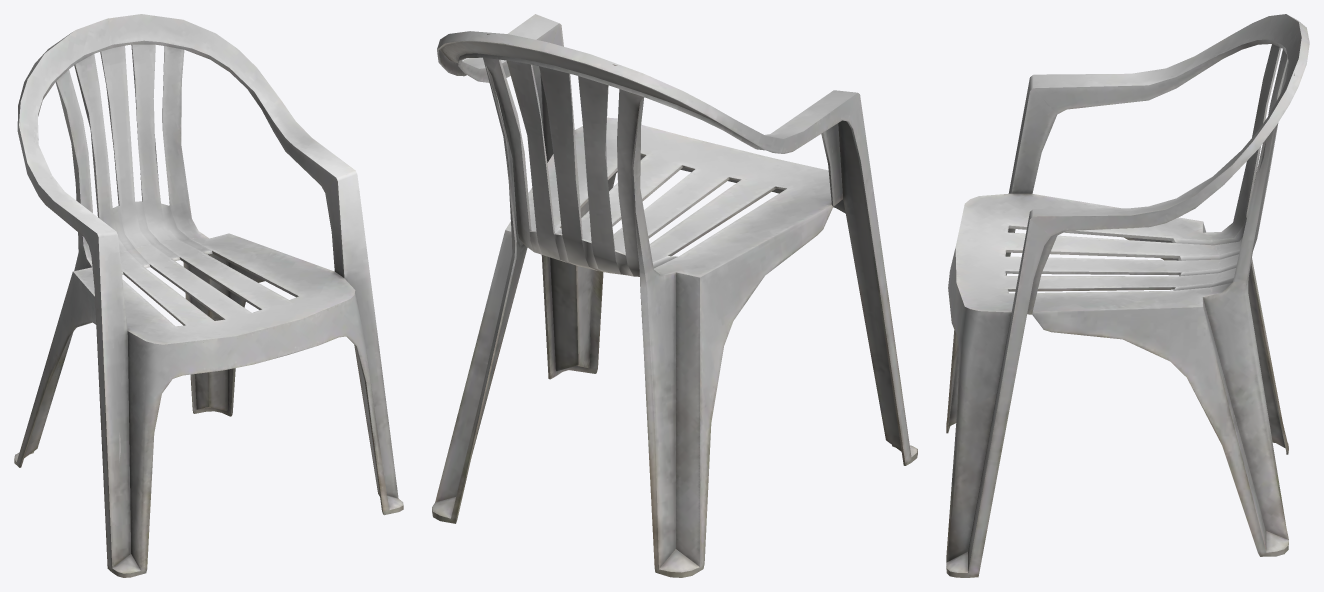
File: plastic-chair.glb
3 renders of one model, left to right at view 1: azimuth 30°, elevation 25°; view 2: azimuth 150°, elevation 25°; view 3: azimuth 270°, elevation 25°, orthographic. The views are drawn at different scales.
Visible parts, largest first — view 1: plastic_monobloc_chair_01; view 2: plastic_monobloc_chair_01; view 3: plastic_monobloc_chair_01.
Part boxes in pixels (x1,y1,x2,y2): plastic_monobloc_chair_01: [14, 14, 403, 577]; plastic_monobloc_chair_01: [432, 14, 917, 577]; plastic_monobloc_chair_01: [946, 14, 1309, 577].
Size of the model in its own units: 0.6419 by 0.8798 by 0.6276.
1 material, 1 textured.
